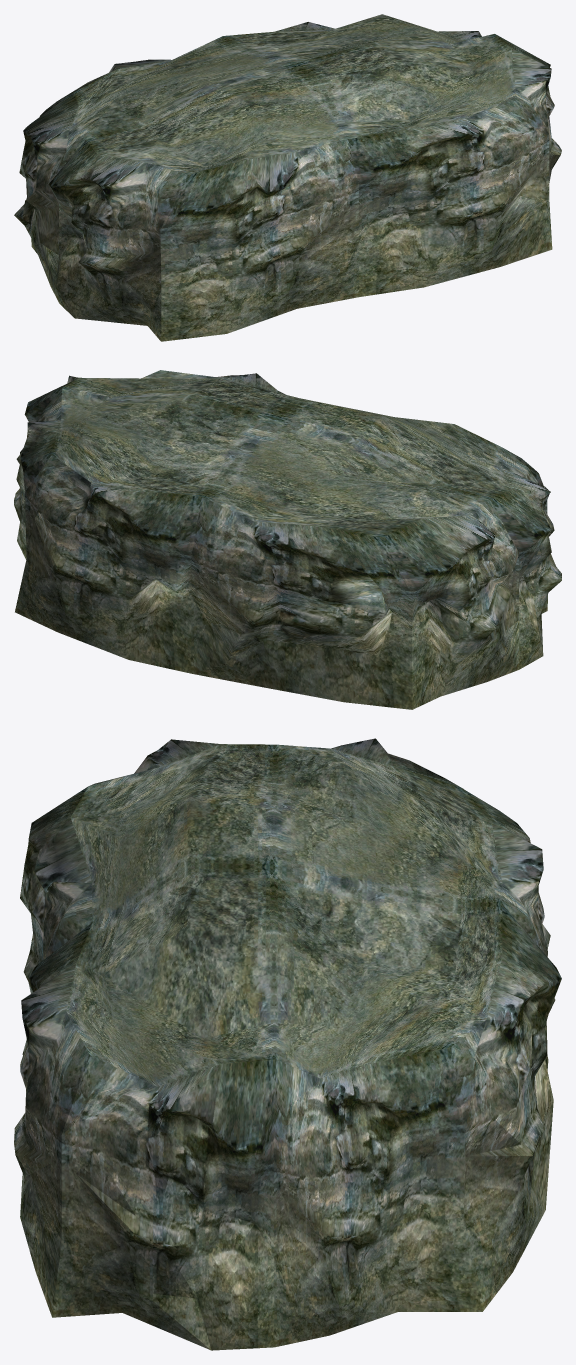
Rendered from rock20.glb.
3 views of the same model, one above another, from view 1: azimuth 30°, elevation 25°; view 2: azimuth 150°, elevation 25°; view 3: azimuth 270°, elevation 25° (orthographic). The views are drawn at different scales.
Visible parts, largest first — view 1: rock20; view 2: rock20; view 3: rock20.
Boxes of the visible parts, x1,y1,x2,y2 form: rock20: (14,14,561,341); rock20: (14,370,561,709); rock20: (14,738,561,1350).
Size of the model in its own units: 22.93 by 8.14 by 13.33.
2 materials, 2 textured.
